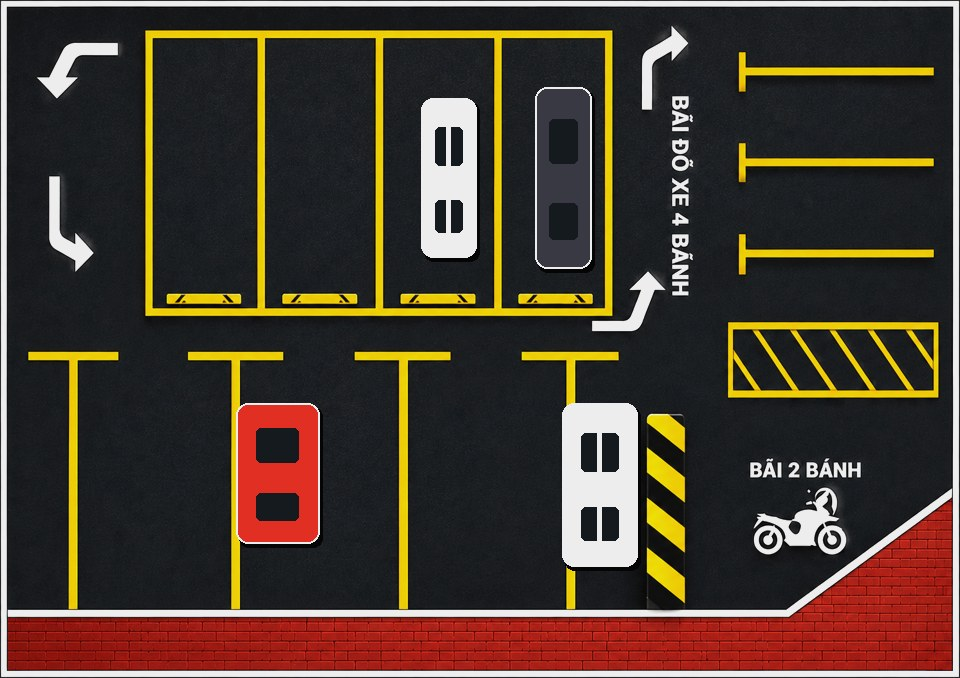empty: (35, 351, 199, 598), (360, 351, 518, 598), (148, 35, 267, 309), (267, 35, 386, 309)
occupied: (201, 351, 357, 598), (524, 351, 672, 598), (386, 35, 505, 309), (505, 35, 624, 309)
